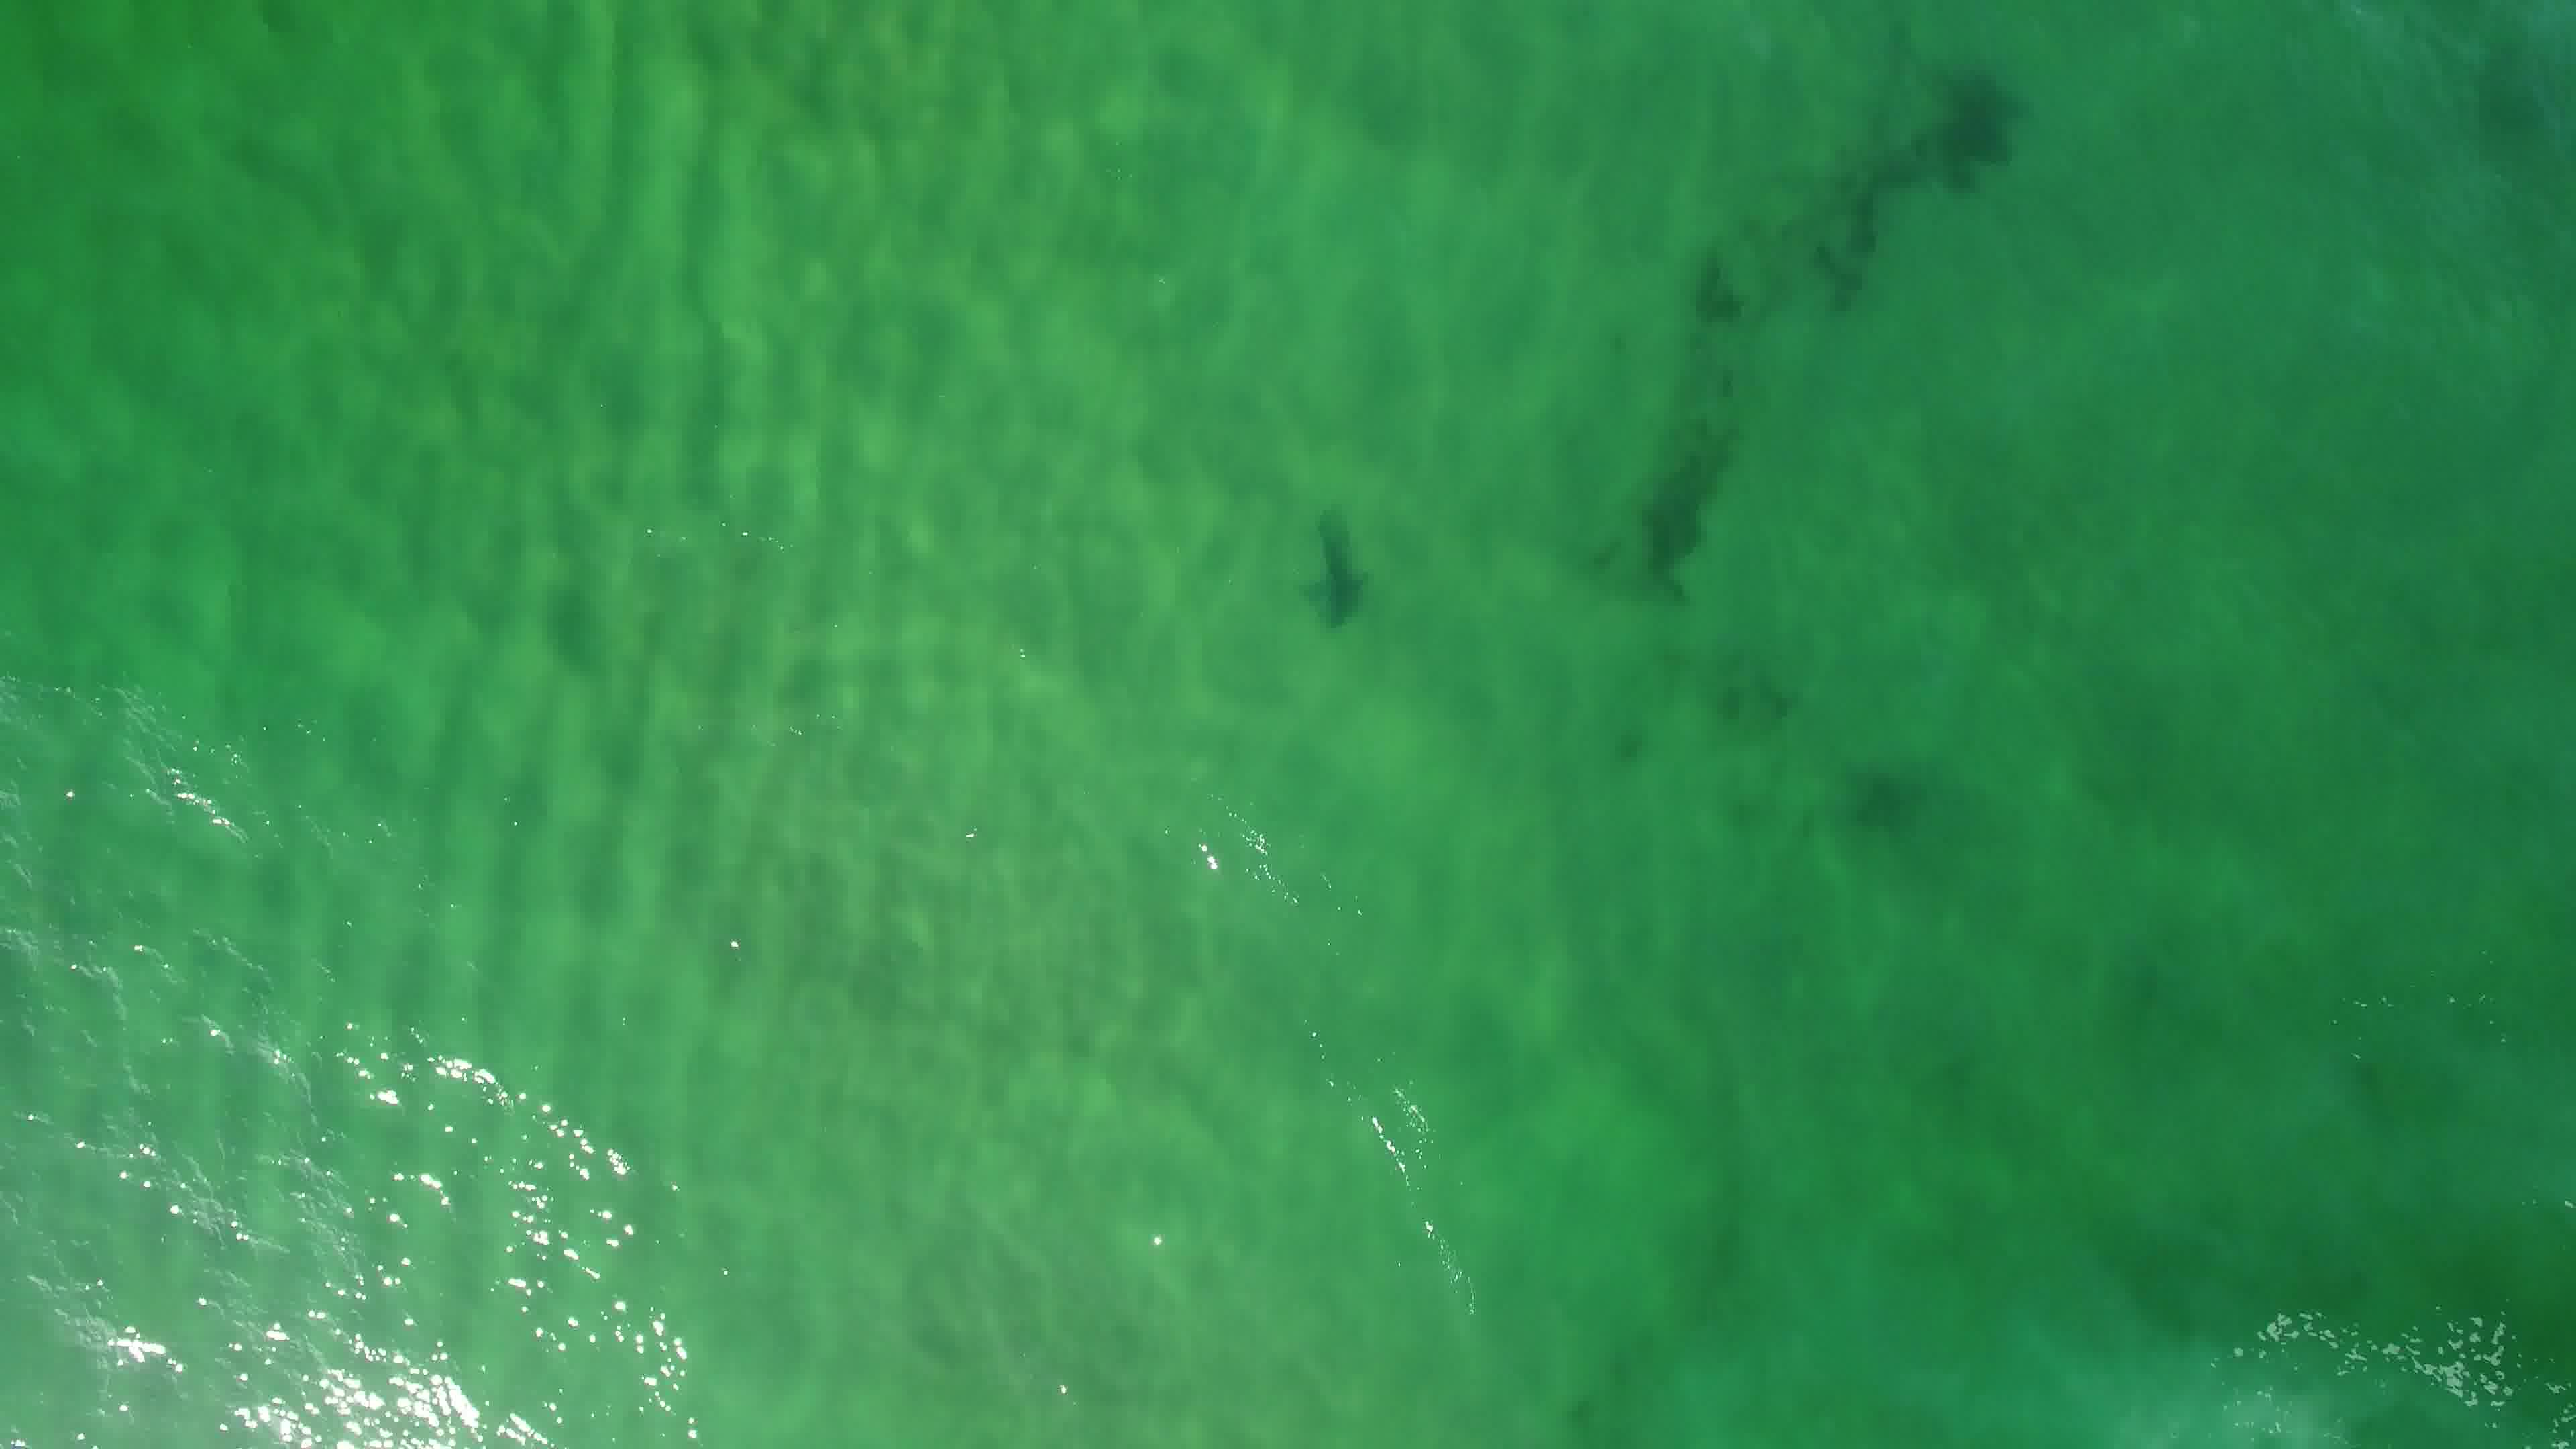shark: (1292, 506, 1373, 633)
